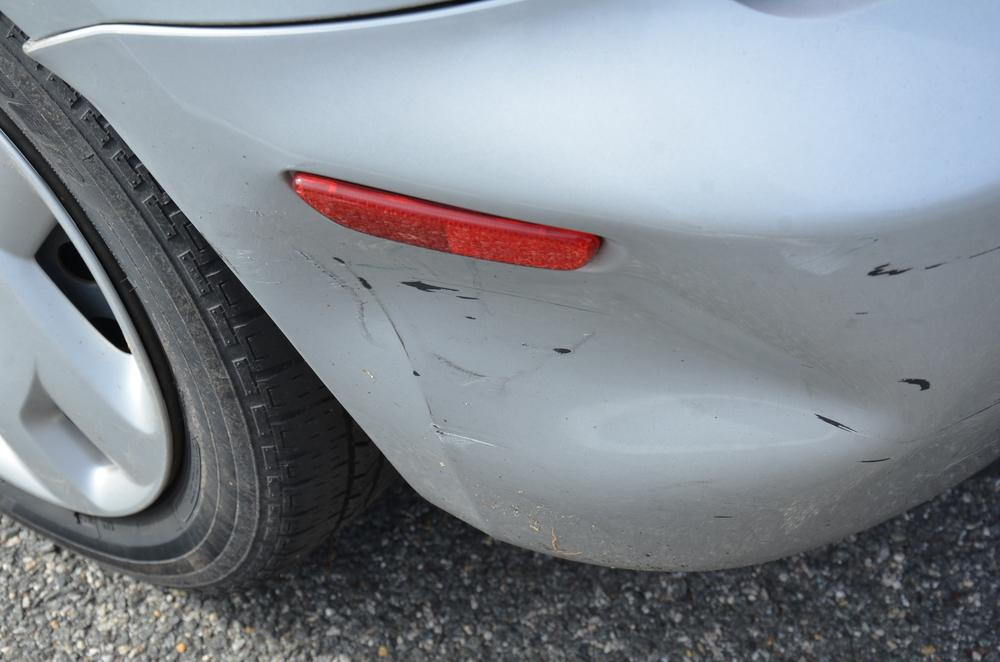dent: (276, 247, 905, 449)
scratch: (862, 244, 1000, 278)
